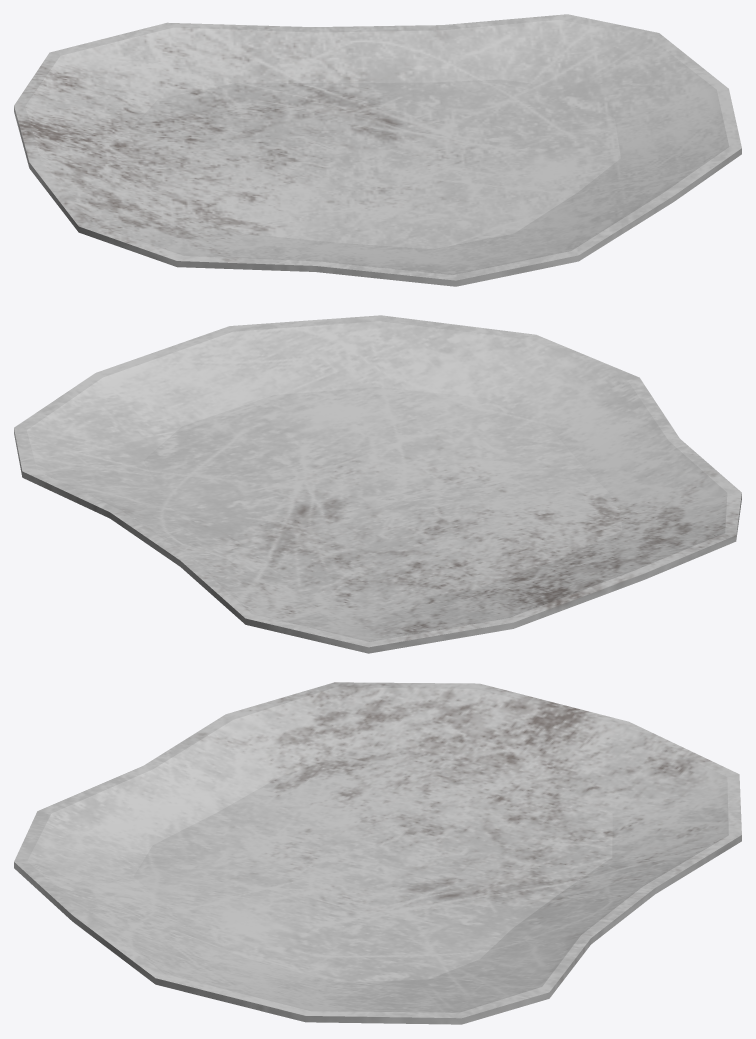
The model's file is plate_2.fbx.
3 views of the same model, one above another, from view 1: azimuth 30°, elevation 25°; view 2: azimuth 150°, elevation 25°; view 3: azimuth 270°, elevation 25° (orthographic). The views are drawn at different scales.
Parts seen in each view (by area): view 1: Plate_low.003; view 2: Plate_low.003; view 3: Plate_low.003.
Part boxes in pixels (box(x1,y1,x2,y2)): Plate_low.003: box(14, 14, 741, 286); Plate_low.003: box(14, 315, 741, 653); Plate_low.003: box(14, 682, 741, 1024).
Size of the model in its own units: 27.23 by 1.66 by 25.54.
